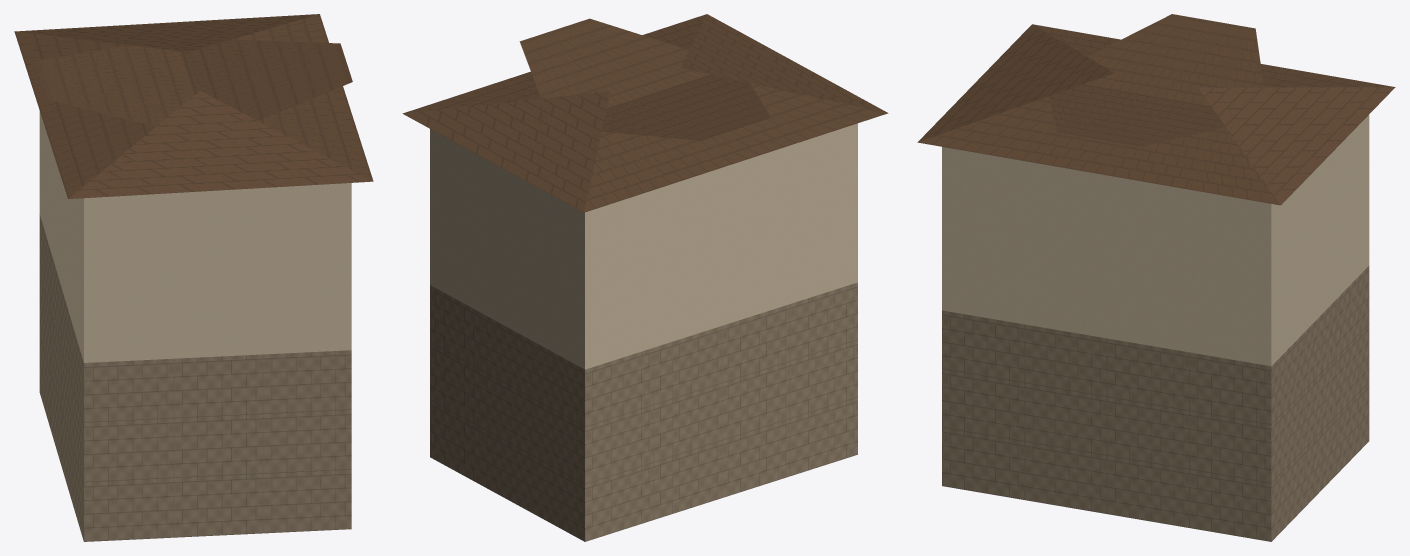
Rendered from bld_c-5_20_582.gltf.
The picture shows the model from 3 angles, left to right: view 1: azimuth 30°, elevation 25°; view 2: azimuth 150°, elevation 25°; view 3: azimuth 270°, elevation 25°; orthographic projection. The views are drawn at different scales.
Parts seen in each view (by area): view 1: bld_c-5_20_582; view 2: bld_c-5_20_582; view 3: bld_c-5_20_582.
Part boxes in pixels (x1,y1,x2,y2): bld_c-5_20_582: (14,14,373,541); bld_c-5_20_582: (402,14,888,541); bld_c-5_20_582: (917,14,1395,541).
Size of the model in its own units: 11.28 by 11.1 by 12.58.
3 materials, 3 textured.
